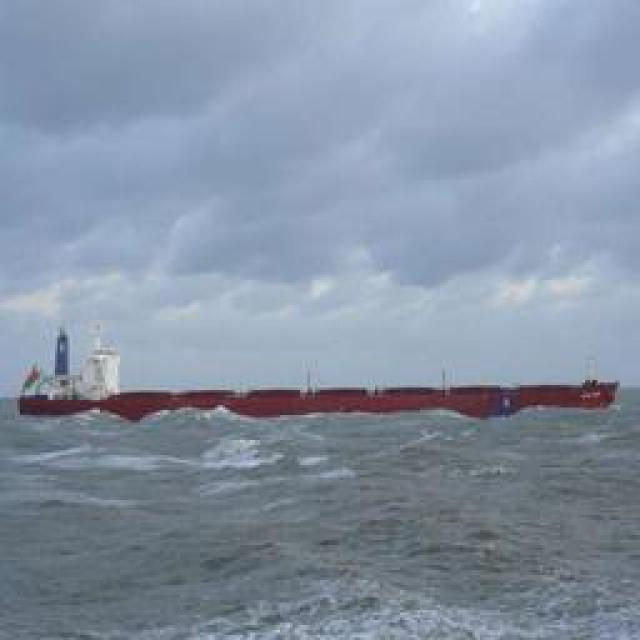Ship: (1, 361, 621, 429)
